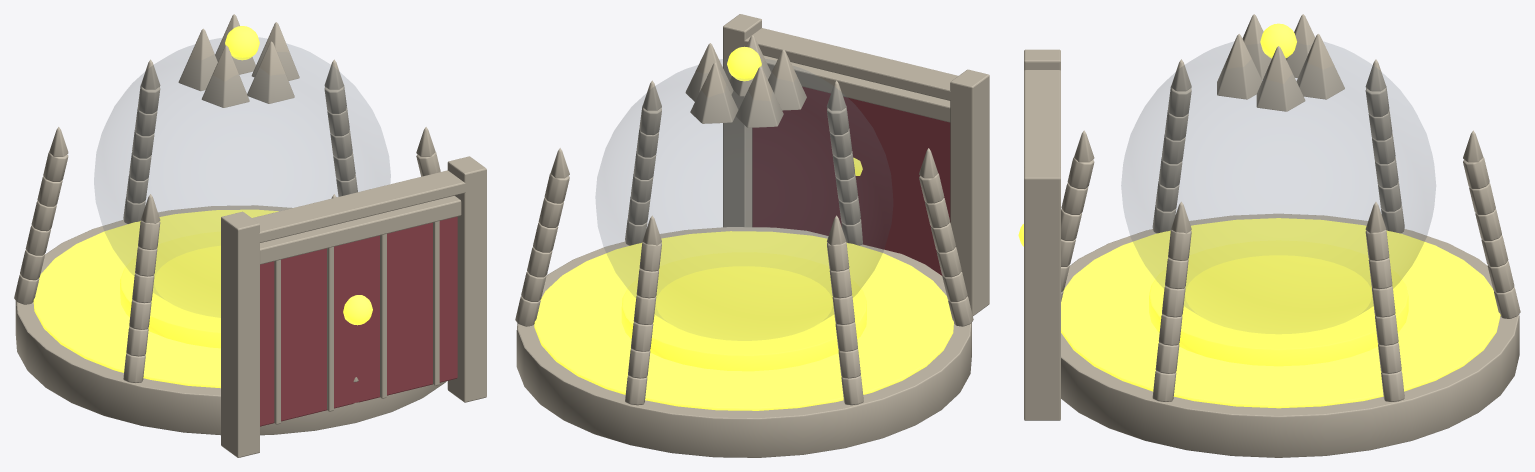
Rendered from MonsterHub_SOLAR_Hatchery.glb.
3 renders of one model, left to right at view 1: azimuth 30°, elevation 25°; view 2: azimuth 150°, elevation 25°; view 3: azimuth 270°, elevation 25°, orthographic. The views are drawn at different scales.
Visible parts, largest first — view 1: MonsterHub_SOLAR_Hatchery, MonsterHub_SOLAR_Hatchery_Gate; view 2: MonsterHub_SOLAR_Hatchery, MonsterHub_SOLAR_Hatchery_Gate; view 3: MonsterHub_SOLAR_Hatchery.
Boxes of the visible parts, x1,y1,x2,y2 form: MonsterHub_SOLAR_Hatchery: (14, 14, 486, 457); MonsterHub_SOLAR_Hatchery_Gate: (260, 195, 461, 426); MonsterHub_SOLAR_Hatchery: (515, 14, 989, 457); MonsterHub_SOLAR_Hatchery_Gate: (752, 55, 950, 275); MonsterHub_SOLAR_Hatchery: (1024, 14, 1520, 457).
Size of the model in its own units: 5.21 by 3.96 by 5.43.
